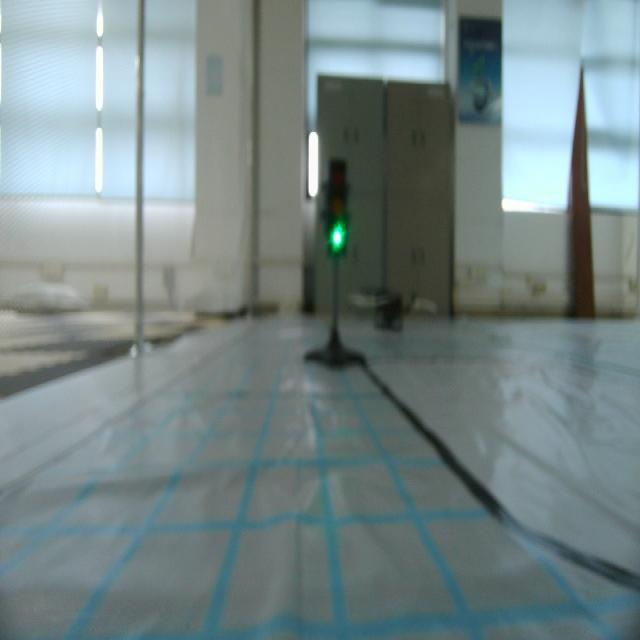green: (324, 160, 352, 263)
